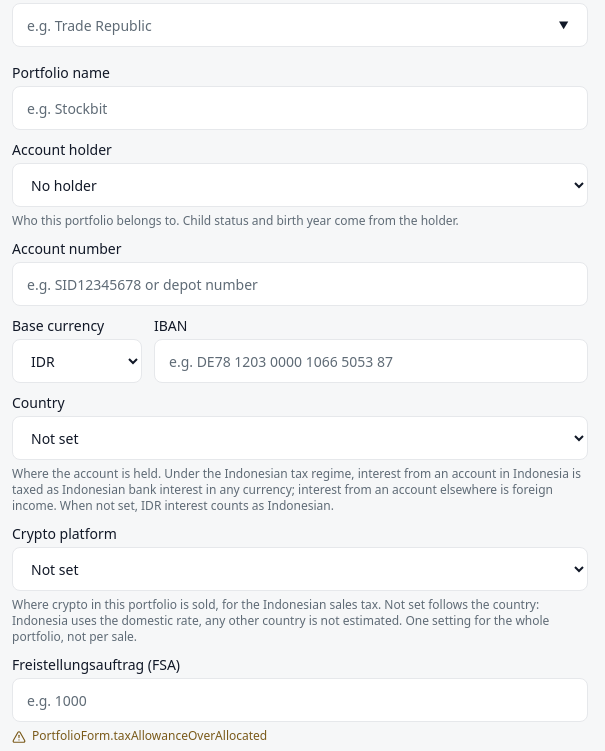
PortfolioEditForm › disables Create until a name is entered
This screenshot has width=605, height=751.
Step 1. Type "x" into the field labelled "Portfolio name" → (300, 108), box [12, 86, 588, 130]
(page scrolled)
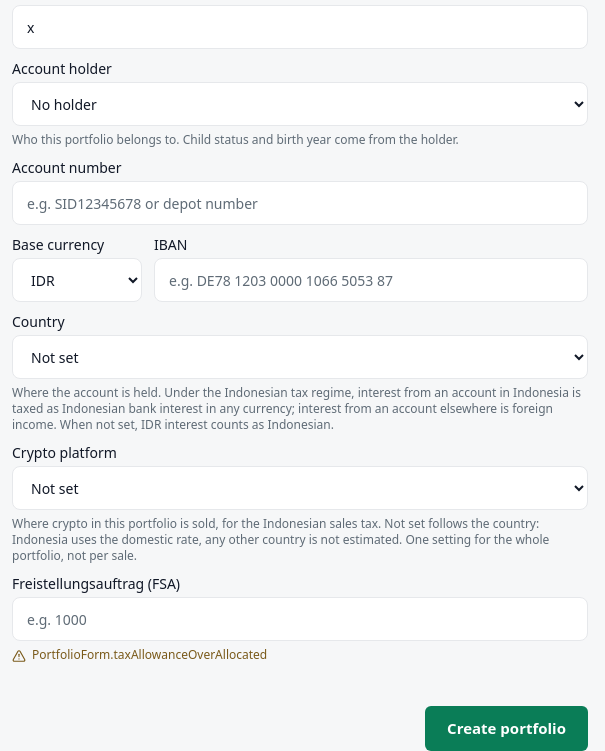
Now the button "Create portfolio" is enabled, box [425, 706, 588, 750]
